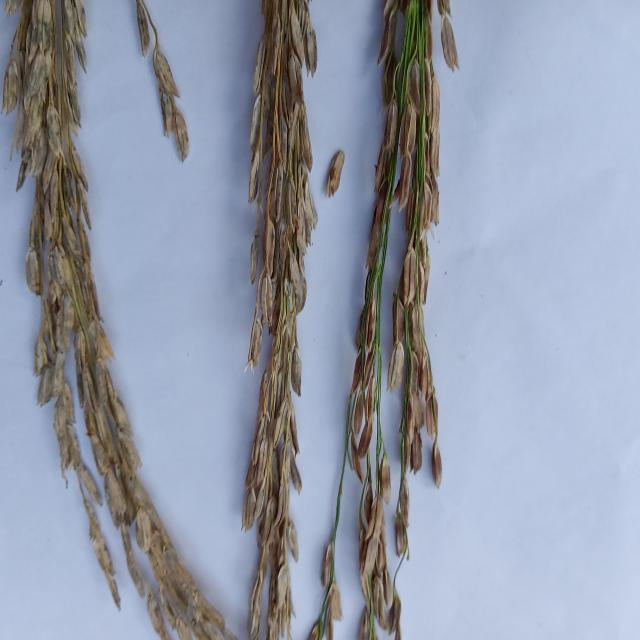Neck_Blast: (17, 2, 223, 632), (344, 2, 438, 640), (246, 5, 311, 640)
